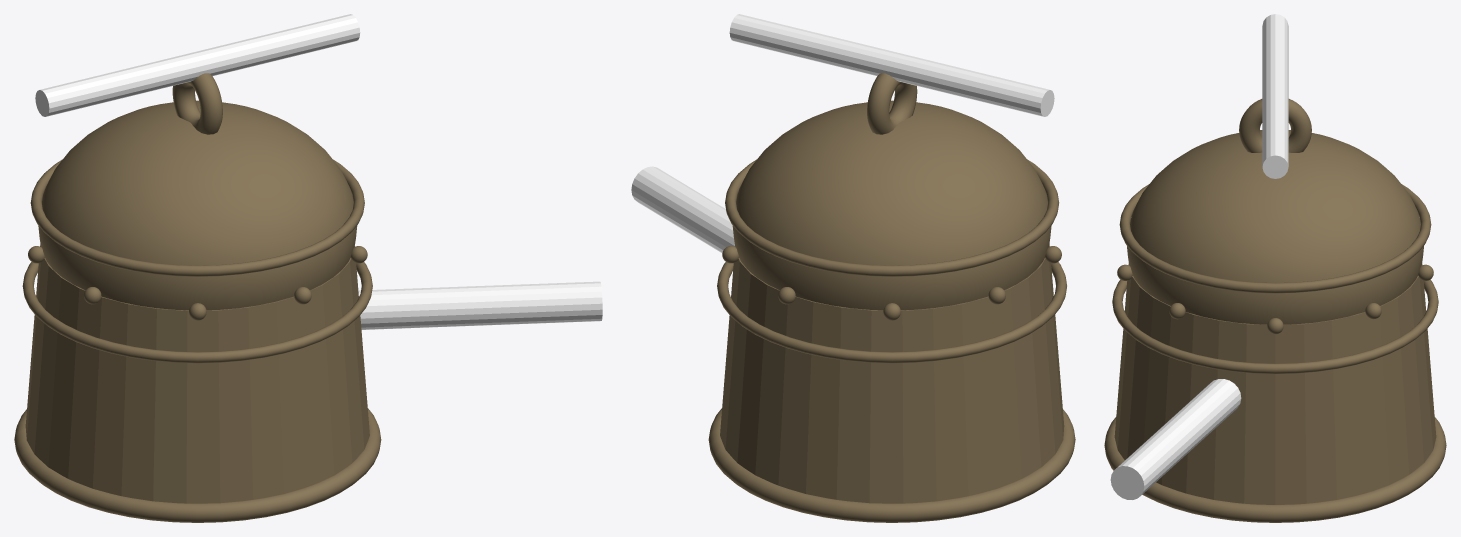
File: bell.glb
The picture shows the model from 3 angles, left to right: view 1: azimuth 30°, elevation 25°; view 2: azimuth 150°, elevation 25°; view 3: azimuth 270°, elevation 25°; orthographic projection. The views are drawn at different scales.
Parts seen in each view (by area): view 1: Cone, Sphere, Cylinder.001, Cylinder, Torus.015, Torus.016, Torus.017, Torus.018; view 2: Cone, Sphere, Cylinder, Torus.015, Torus.016, Torus.017, Cylinder.001, Torus.018; view 3: Cone, Sphere, Torus.015, Cylinder.001, Torus.016, Torus.017, Cylinder, Torus.018.
Part boxes in pixels (x1,y1,x2,y2): Cone: (25,244,369,503); Sphere: (38,100,357,310); Cylinder.001: (358,281,602,329); Cylinder: (35,14,360,116); Torus.015: (14,408,381,522); Torus.016: (30,159,364,276); Torus.017: (22,262,372,363); Torus.018: (172,73,222,134); Cone: (720,243,1064,503); Sphere: (732,100,1051,310); Cylinder: (729,14,1054,116); Torus.015: (708,408,1075,522); Torus.016: (725,159,1059,276); Torus.017: (717,262,1066,363); Cylinder.001: (631,166,734,252); Torus.018: (867,73,917,134); Cone: (1114,263,1436,504); Sphere: (1127,130,1423,324); Torus.015: (1104,417,1446,522); Cylinder.001: (1110,379,1241,499); Torus.016: (1119,184,1431,293); Torus.017: (1112,279,1438,373); Cylinder: (1262,14,1288,178); Torus.018: (1239,99,1311,152).
Bounding box in the file's own units: 1.42 × 1.1 × 0.92.
